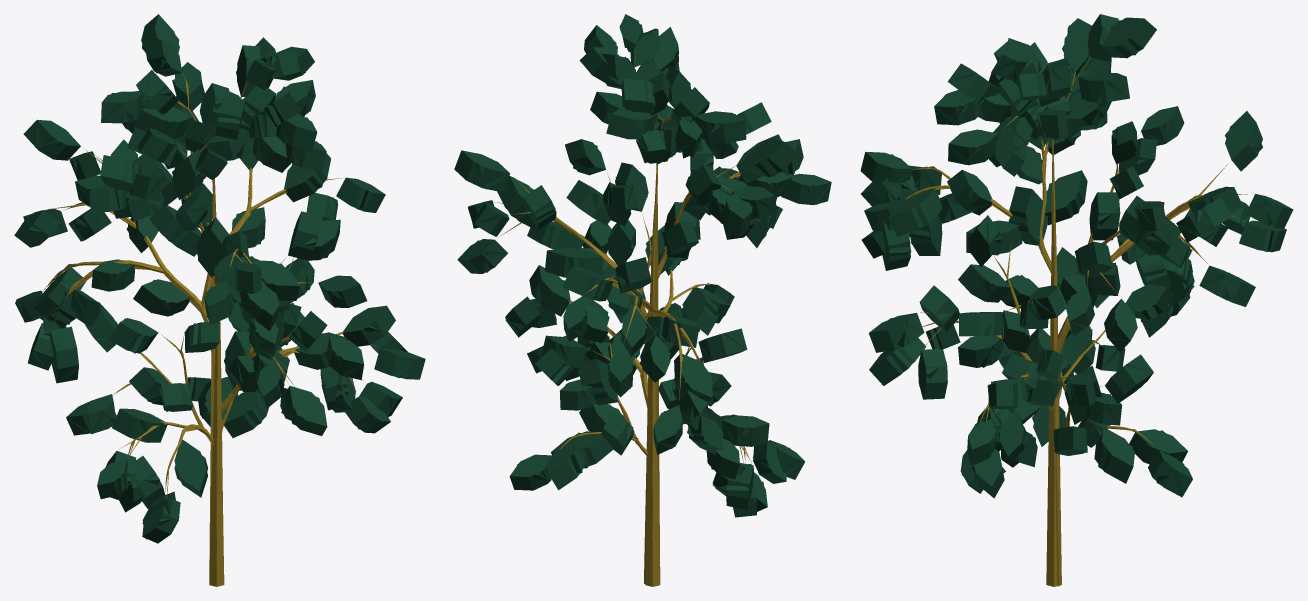
Rendered from shrubL.fbx.
3 renders of one model, left to right at view 1: azimuth 30°, elevation 25°; view 2: azimuth 150°, elevation 25°; view 3: azimuth 270°, elevation 25°, orthographic. The views are drawn at different scales.
Parts seen in each view (by area): view 1: shrubL, shrubL1, shrubL2; view 2: shrubL, shrubL1, shrubL2; view 3: shrubL, shrubL1, shrubL2.
Part boxes in pixels (x1,y1,x2,y2): shrubL: [14, 14, 425, 585]; shrubL1: [15, 15, 424, 543]; shrubL2: [17, 16, 414, 586]; shrubL: [454, 14, 831, 586]; shrubL1: [455, 14, 830, 571]; shrubL2: [458, 24, 830, 583]; shrubL: [861, 14, 1293, 586]; shrubL1: [861, 14, 1292, 585]; shrubL2: [861, 18, 1291, 586].
Bounding box in the file's own units: 72.3 × 119 × 84.03.
